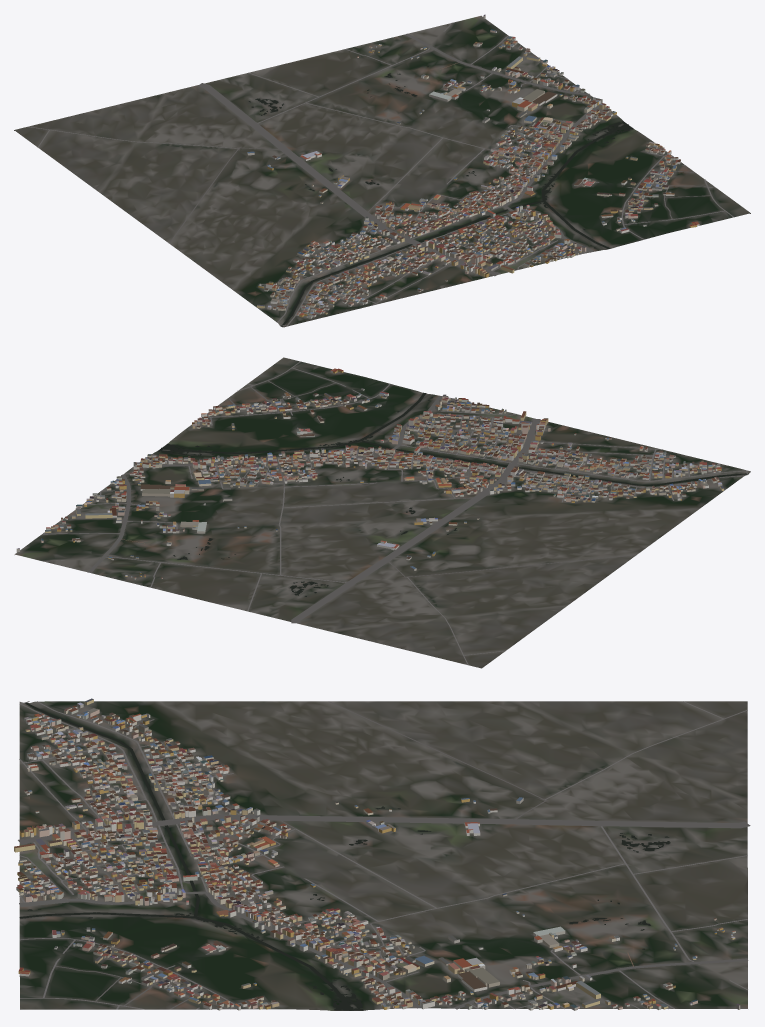
3 renders of one model, top to bottom at view 1: azimuth 30°, elevation 25°; view 2: azimuth 150°, elevation 25°; view 3: azimuth 270°, elevation 25°, orthographic. The views are drawn at different scales.
Visible parts, largest first — view 1: ground, buildings, roads, water; view 2: ground, buildings, roads, water; view 3: ground, buildings, roads, water.
Boxes of the visible parts, <box> form: ground: <box>14,16,750,327</box>; buildings: <box>247,14,699,318</box>; roads: <box>28,15,733,326</box>; water: <box>248,66,633,326</box>; ground: <box>14,357,750,668</box>; buildings: <box>16,368,723,579</box>; roads: <box>42,361,747,664</box>; water: <box>143,392,748,596</box>; ground: <box>19,701,747,1010</box>; buildings: <box>14,698,740,1010</box>; roads: <box>18,701,750,1009</box>; water: <box>19,702,670,1010</box>.
Size of the model in its own units: 1412 by 30.18 by 1419.
